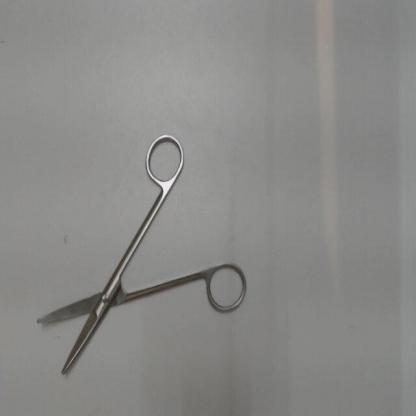Curved Mayo Scissors: (22, 125, 254, 376)
